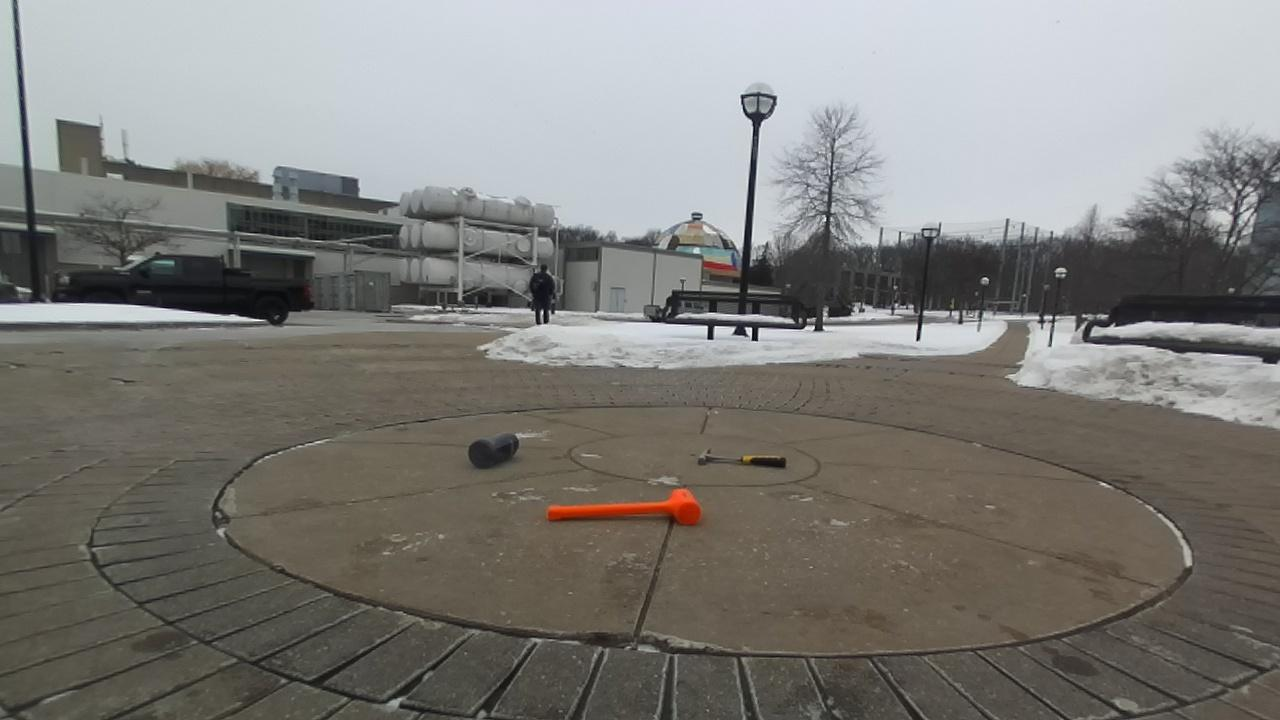bottle: (469, 433, 519, 468)
mallet: (547, 488, 701, 525)
pick: (698, 449, 786, 467)
